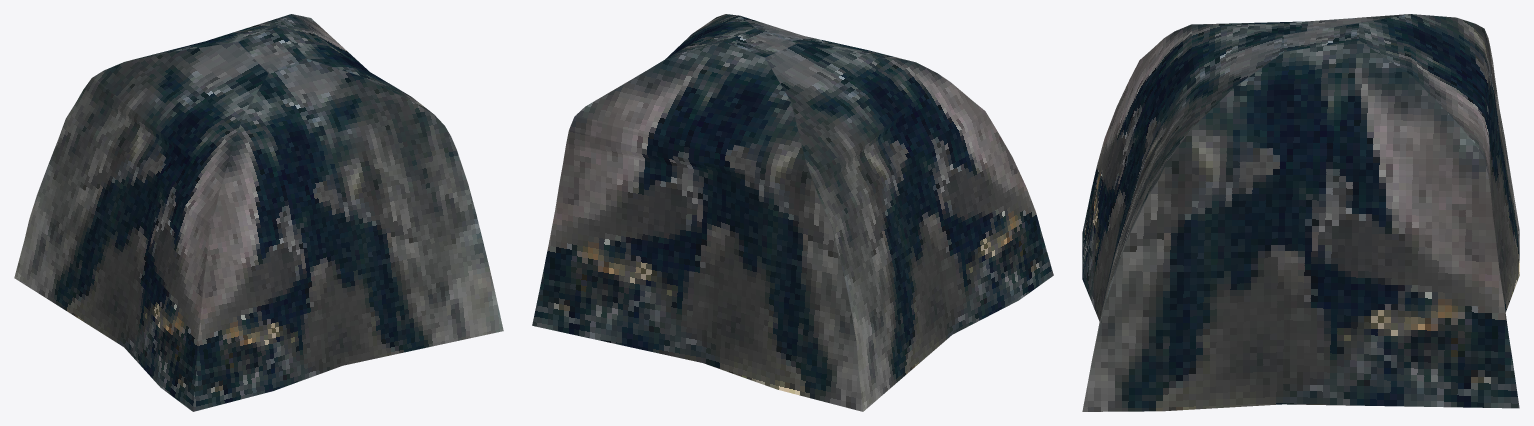
3 renders of one model, left to right at view 1: azimuth 30°, elevation 25°; view 2: azimuth 150°, elevation 25°; view 3: azimuth 270°, elevation 25°, orthographic. The views are drawn at different scales.
Parts seen in each view (by area): view 1: SPLICE_1; view 2: SPLICE_1; view 3: SPLICE_1.
Part boxes in pixels (left/top/right/bottom): SPLICE_1: left=14, top=14, right=503, bottom=411; SPLICE_1: left=532, top=14, right=1053, bottom=411; SPLICE_1: left=1082, top=14, right=1519, bottom=411.
Bounding box in the file's own units: 1.16 × 0.9087 × 1.16.
Materials: 1 (1 with a texture image).
